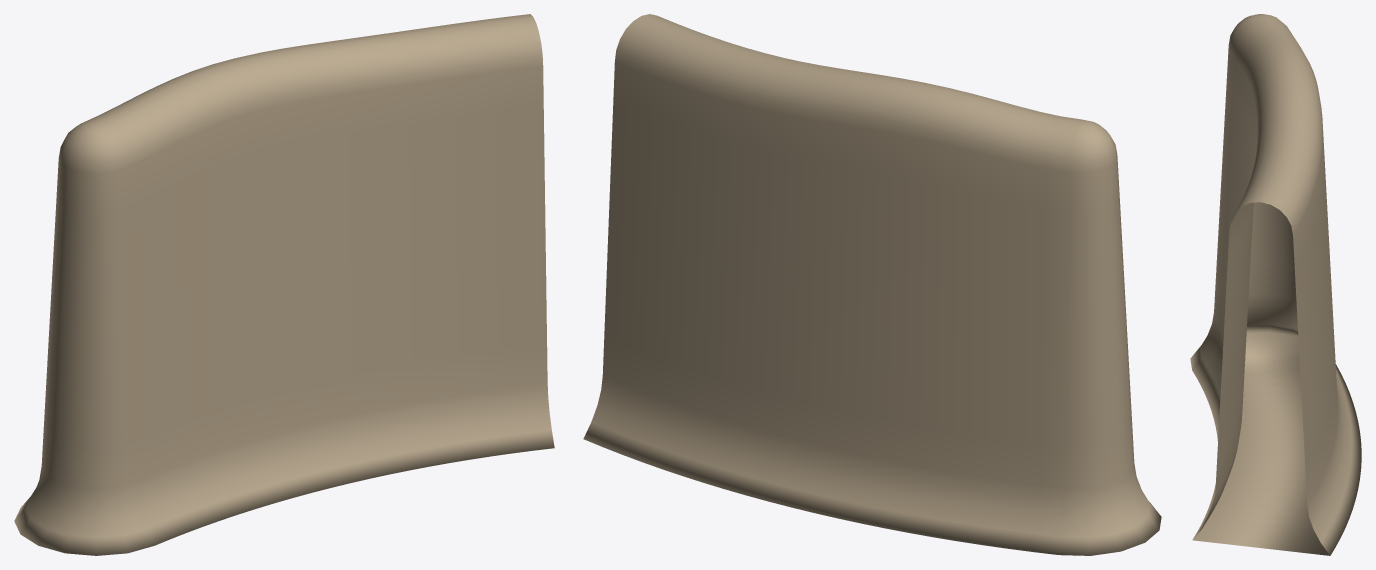
The model's file is KFB_Wall_curved_ring_r2_capB.r4.glb.
3 views of the same model, side by side, from view 1: azimuth 30°, elevation 25°; view 2: azimuth 150°, elevation 25°; view 3: azimuth 270°, elevation 25° (orthographic). The views are drawn at different scales.
Parts seen in each view (by area): view 1: KFB_Wall_curved_ring_r2_capB; view 2: KFB_Wall_curved_ring_r2_capB; view 3: KFB_Wall_curved_ring_r2_capB.
Boxes of the visible parts, x1,y1,x2,y2 form: KFB_Wall_curved_ring_r2_capB: (14,14,554,555); KFB_Wall_curved_ring_r2_capB: (583,14,1161,555); KFB_Wall_curved_ring_r2_capB: (1190,14,1361,555).
Size of the model in its own units: 4.99 by 3.71 by 1.62.
